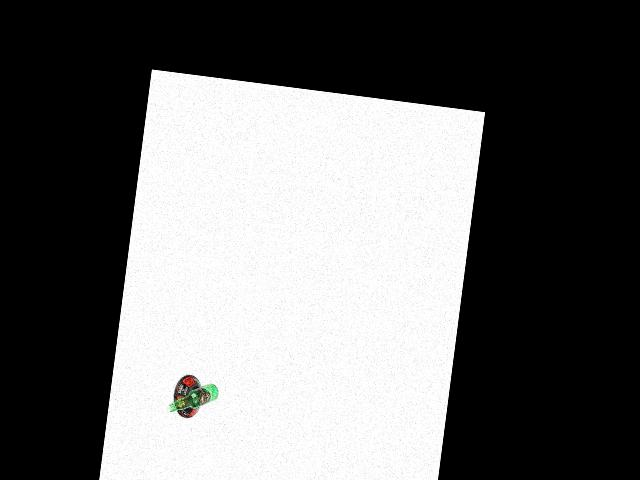beer: (167, 377, 219, 417)
